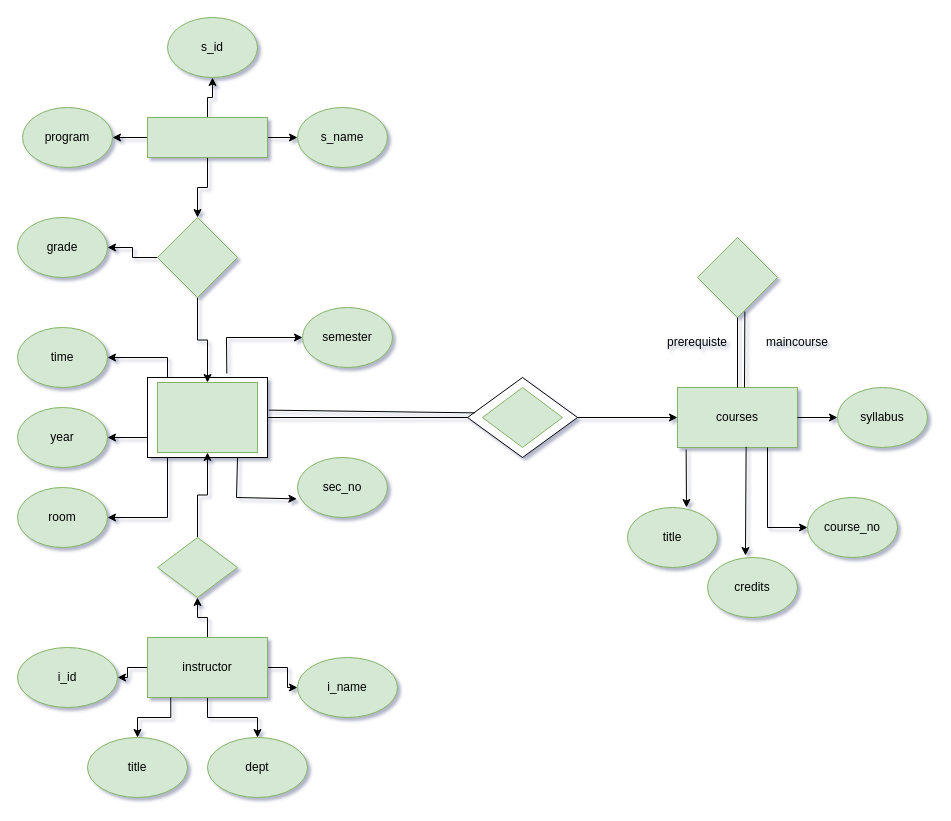
The diagram is 951 pixels wide and 821 high, and some of its shapes have lost their labels. The shapes that lost their labels are listed below. From the top down, each one's centre as x and y in pixels, then its label:
At (207,137): "student".
At (197,257): "enrolls".
At (737,277): "requires".
At (207,417): "course offering".
At (522,417): "is_offered".
At (197,567): "teaches".
